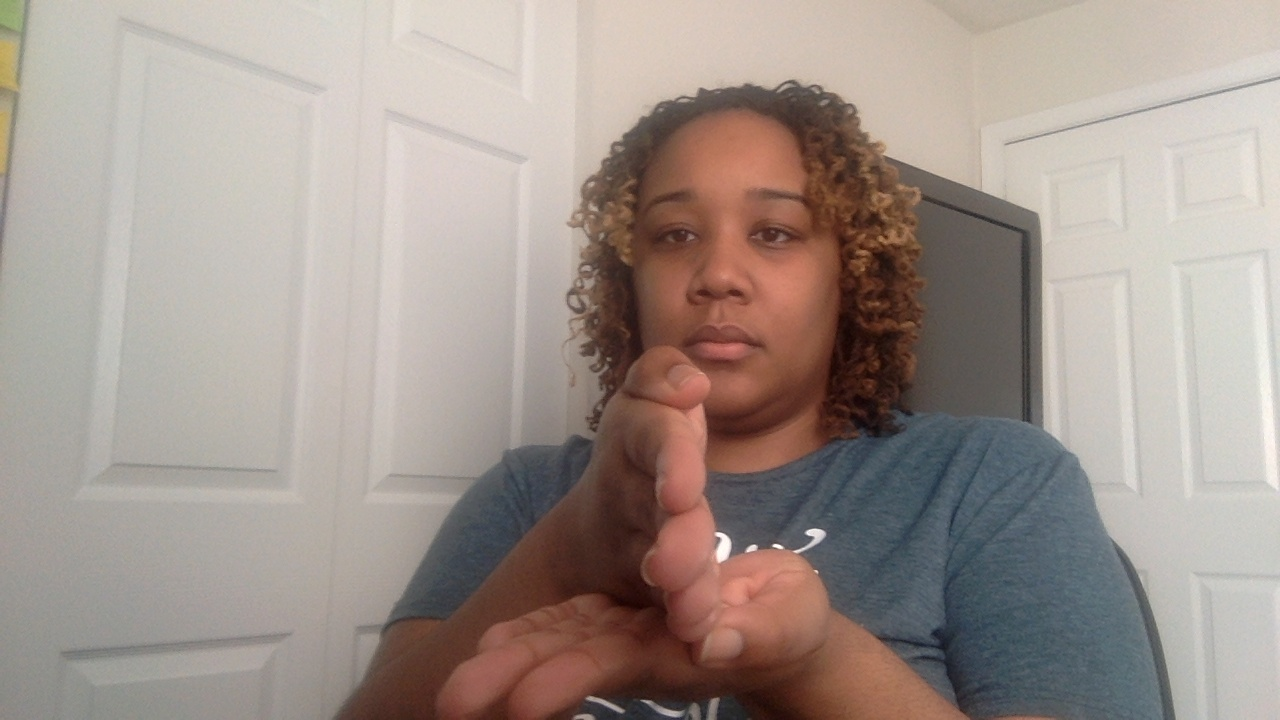stop: (442, 344, 859, 720)
